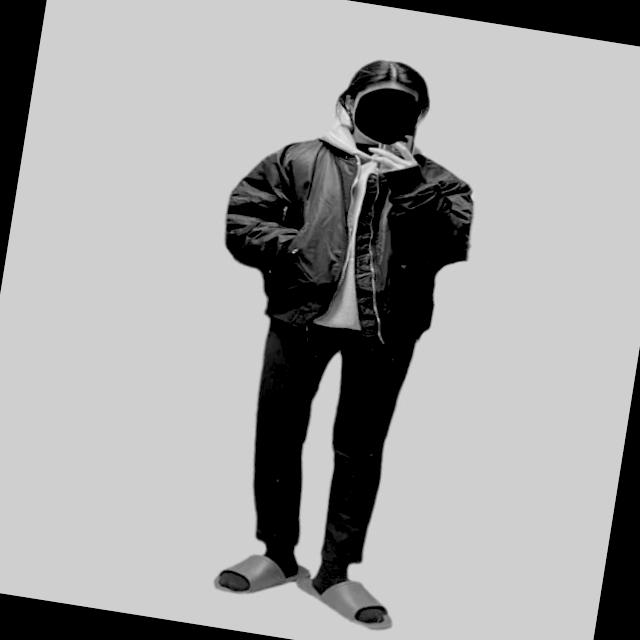denimpants: (233, 311, 412, 565)
jacket: (210, 116, 482, 354)
